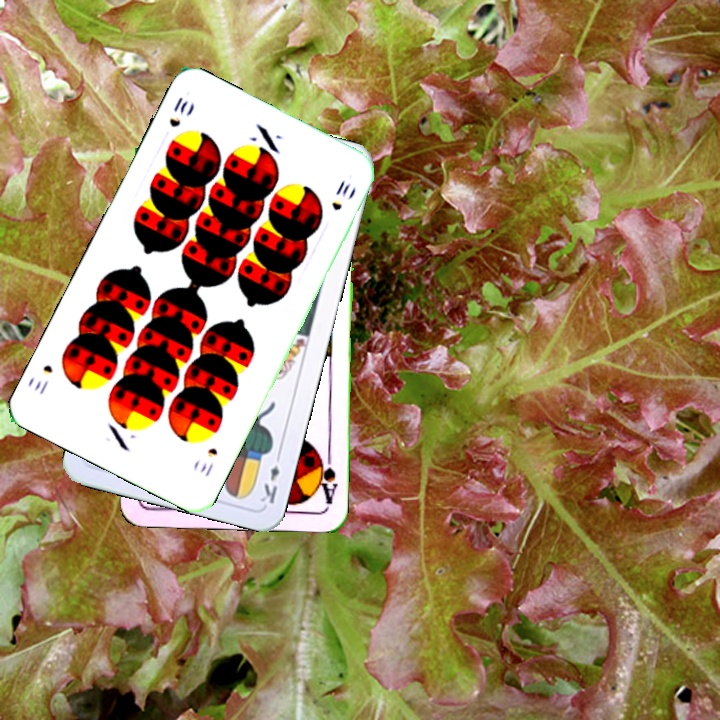EK: (256, 448, 284, 507)
S10: (165, 92, 191, 130), (196, 443, 221, 479)
SA: (313, 447, 340, 507)
